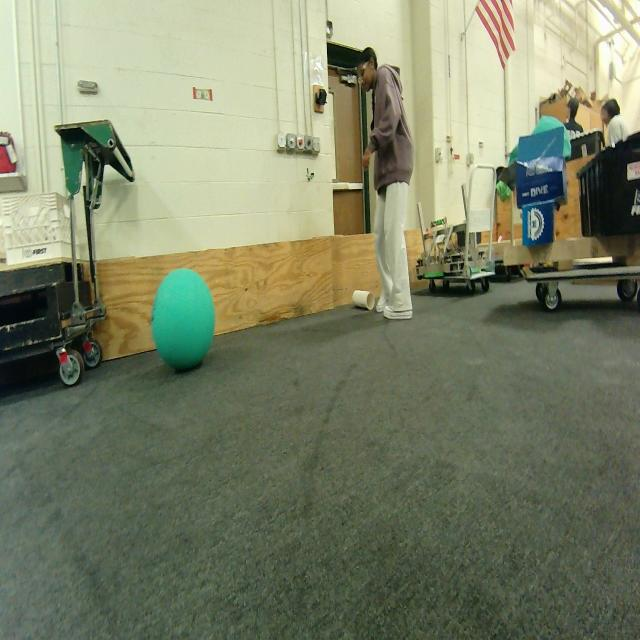algae: (151, 268, 215, 372)
